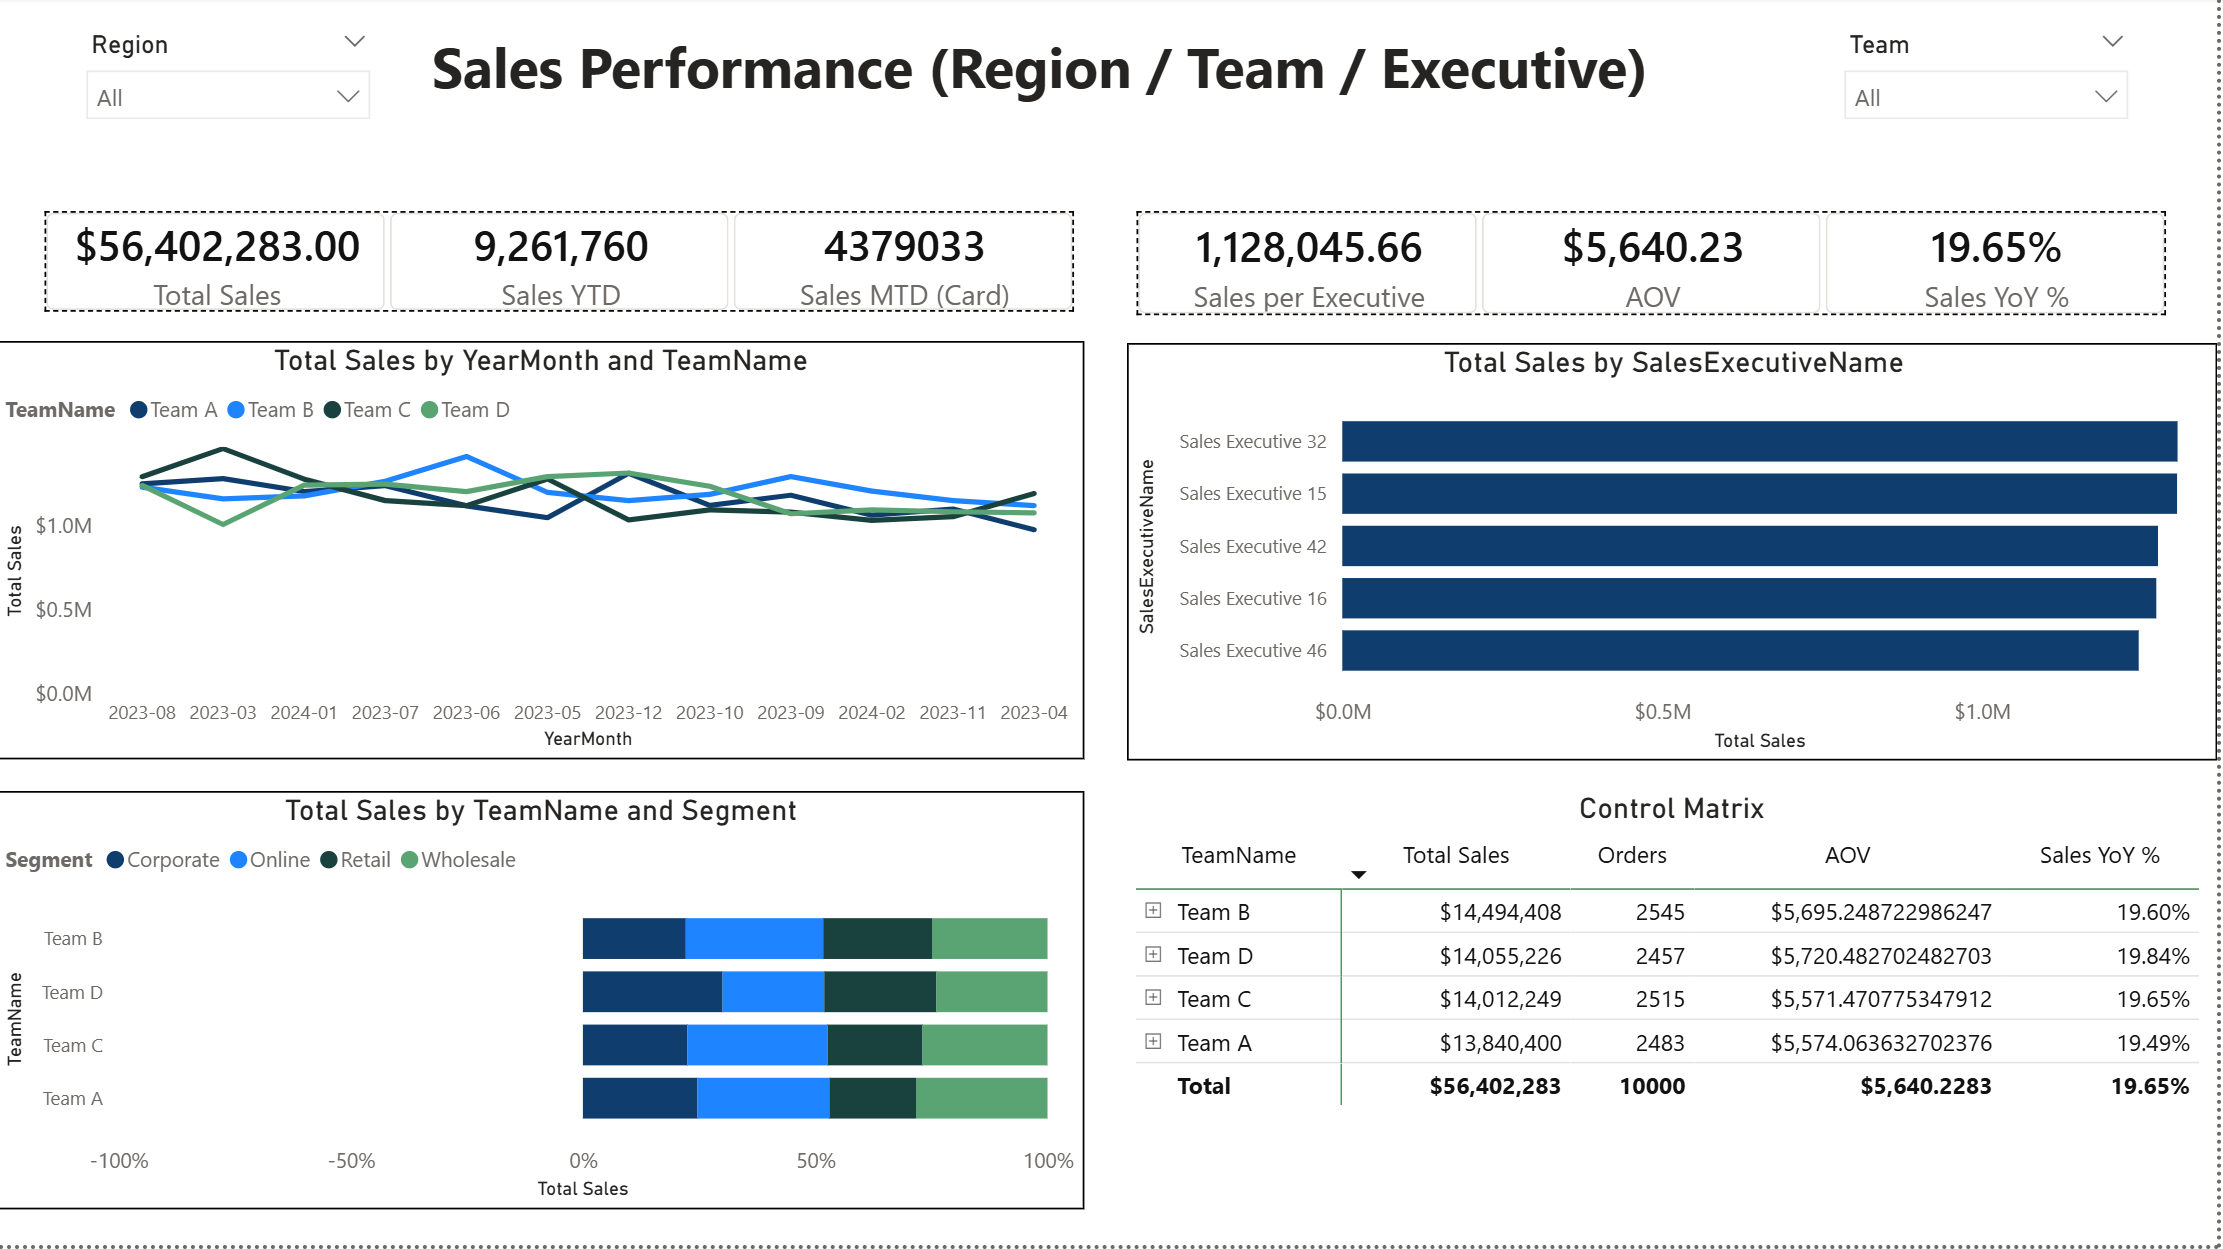

What the dashboard file says about the page in this screenshot:
{"tool":"powerbi","page":{"name":"Page 2","canvas":[1280,720],"ordinal":1},"visuals":[{"type":"cardVisual","title":"Execution","fields":{"Data":["All_measures.Total Sales","All_measures.Sales YTD","All_measures.Sales MTD (Card)"]},"box":[12,82.7,628.7,117.3],"z":0},{"type":"cardVisual","title":"Productivity","fields":{"Data":["All_measures.Sales per Executive","All_measures.AOV","All_measures.Sales YoY %"]},"box":[640.8,82.7,628.7,118.8],"z":1000},{"type":"lineChart","fields":{"Category":["Dim_Date.YearMonth"],"Y":["All_measures.Total Sales"],"Series":["Teams.TeamName"]},"box":[0,198.9,627.3,241],"z":2000},{"type":"barChart","fields":{"Category":["SalesExecutives.SalesExecutiveName"],"Y":["All_measures.Total Sales"]},"box":[651.6,200,628.1,240.6],"z":3000},{"type":"hundredPercentStackedBarChart","fields":{"Y":["All_measures.Total Sales"],"Category":["Teams.TeamName"],"Series":["FactSalesData.Segment"]},"box":[0,459,627.3,241],"z":4000},{"type":"pivotTable","title":"Control Matrix","fields":{"Values":["All_measures.Total Sales","All_measures.Orders","All_measures.AOV","All_measures.Sales YoY %"],"Rows":["Teams.TeamName","SalesExecutives.SalesExecutiveName"]},"box":[652,459,628,241],"z":5000},{"type":"textbox","box":[246.5,13.8,808.7,96.8],"z":6000},{"type":"slicer","fields":{"Values":["FactSalesData.Region"]},"box":[42.1,15.3,183.6,67.6],"z":7000},{"type":"slicer","fields":{"Values":["FactSalesData.Team"]},"box":[1055.6,15.3,183.6,67.6],"z":8000}]}

Visuals, with their boxes in screenshot pixels (x1, y1, x2, y2), scaled from the page's 1280x720 canvas onto the 2223x1249 screenshot:
"Execution" cardVisual: <region>21, 143, 1113, 347</region>
"Productivity" cardVisual: <region>1113, 143, 2205, 350</region>
lineChart - Dim_Date.YearMonth x All_measures.Total Sales: <region>0, 345, 1089, 763</region>
barChart - SalesExecutives.SalesExecutiveName x All_measures.Total Sales: <region>1132, 347, 2222, 764</region>
hundredPercentStackedBarChart - All_measures.Total Sales x Teams.TeamName: <region>0, 796, 1089, 1214</region>
"Control Matrix" pivotTable: <region>1132, 796, 2222, 1214</region>
textbox: <region>428, 24, 1833, 192</region>
slicer - FactSalesData.Region: <region>73, 27, 392, 144</region>
slicer - FactSalesData.Team: <region>1833, 27, 2152, 144</region>
